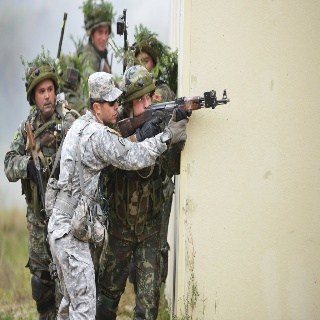rifle: (116, 88, 231, 141)
